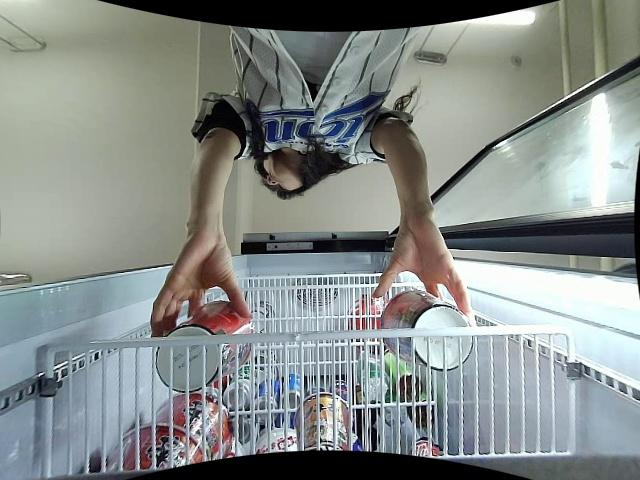00_hand: (151, 238, 253, 337), (376, 218, 473, 317)
02_shinRamen_S: (156, 301, 252, 394), (381, 291, 474, 370)
